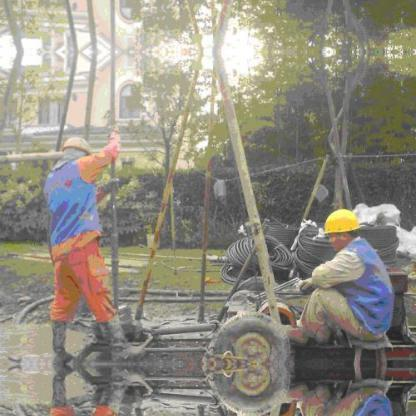helmet: (323, 208, 362, 238), (62, 136, 95, 161)
